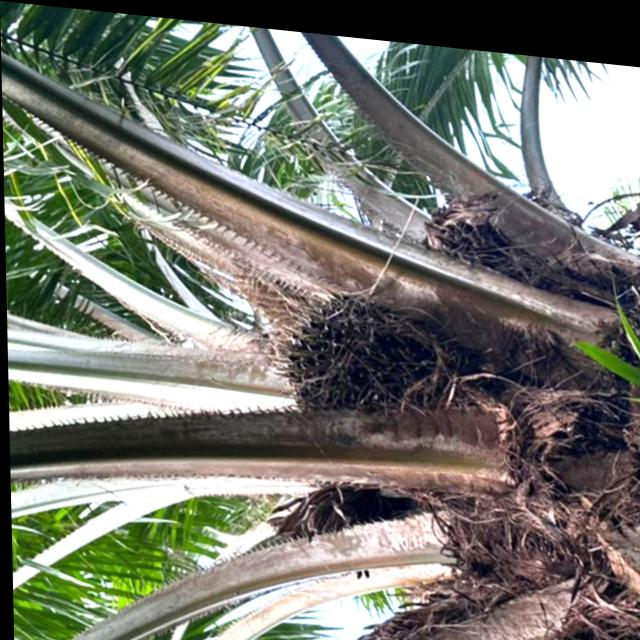unripe: (282, 268, 490, 436)
